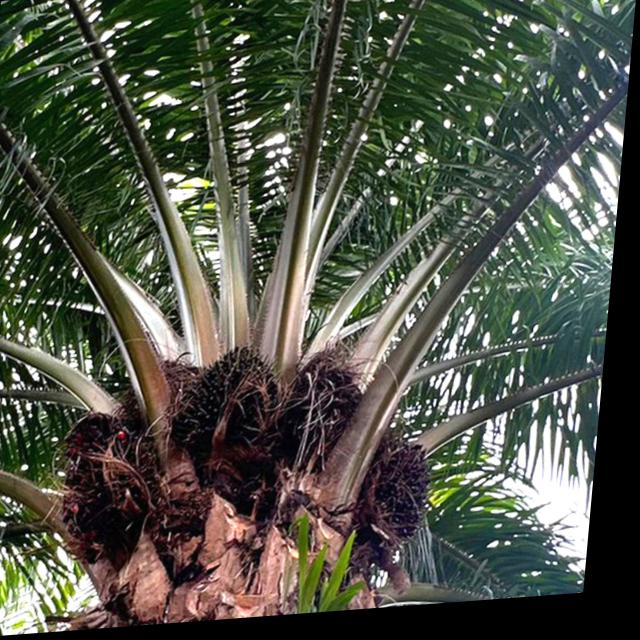unripe: (172, 342, 298, 467)
